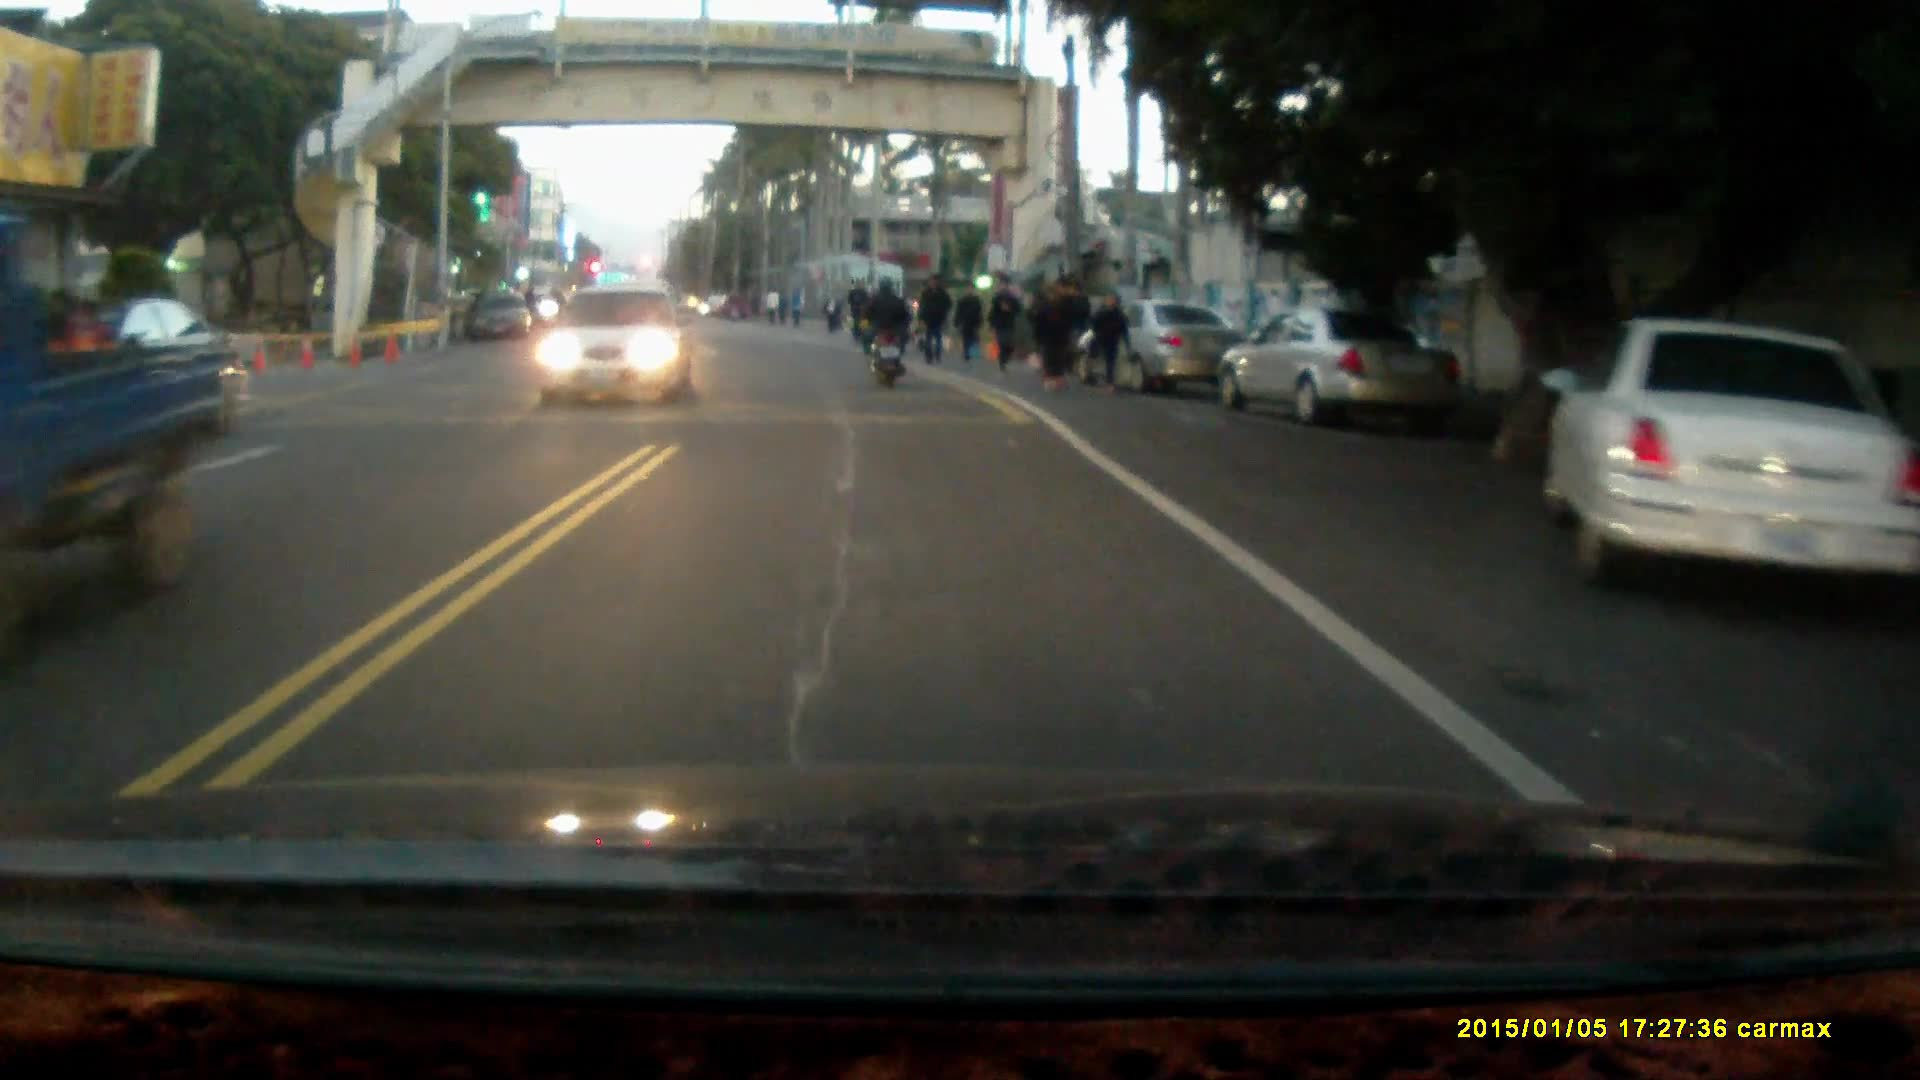pedestrian: (1033, 273, 1069, 385), (1092, 289, 1130, 393), (1053, 271, 1087, 380), (988, 271, 1023, 370), (916, 270, 952, 362), (953, 276, 988, 363)
rider: (855, 273, 913, 388)
vehicle: (1540, 313, 1886, 612), (1, 307, 245, 619), (1219, 297, 1460, 425), (532, 278, 699, 408), (1104, 295, 1249, 395)
